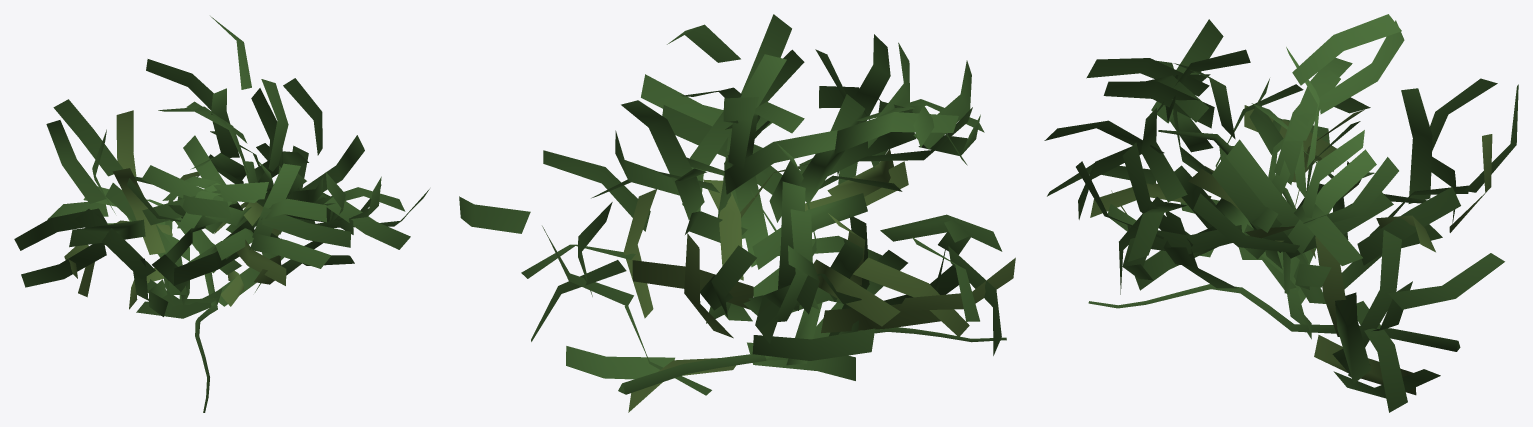
File: arbusto_1_longe.glb
The picture shows the model from 3 angles, left to right: view 1: azimuth 30°, elevation 25°; view 2: azimuth 150°, elevation 25°; view 3: azimuth 270°, elevation 25°; orthographic projection. The views are drawn at different scales.
Visible parts, largest first — view 1: arbusto_1_longe; view 2: arbusto_1_longe; view 3: arbusto_1_longe.
Part boxes in pixels (left/top/right/bottom): arbusto_1_longe: left=14, top=16, right=429, bottom=412; arbusto_1_longe: left=459, top=14, right=1015, bottom=412; arbusto_1_longe: left=1044, top=14, right=1518, bottom=412.
Bounding box in the file's own units: 0.9444 × 0.7422 × 0.8752.
